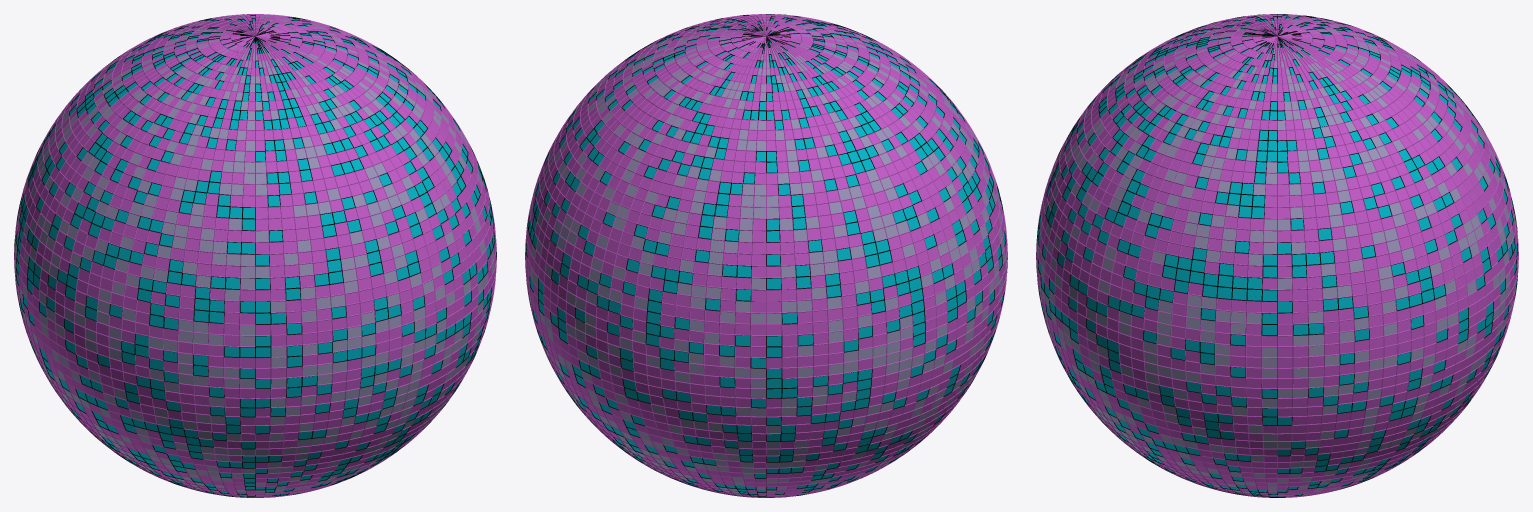
3 renders of one model, left to right at view 1: azimuth 30°, elevation 25°; view 2: azimuth 150°, elevation 25°; view 3: azimuth 270°, elevation 25°, orthographic.
Parts seen in each view (by area): view 1: Sphere; view 2: Sphere; view 3: Sphere.
Boxes of the visible parts, x1,y1,x2,y2 form: Sphere: (14, 14, 496, 497); Sphere: (525, 14, 1007, 497); Sphere: (1036, 14, 1518, 497).
Bounding box in the file's own units: 200 × 200 × 200.
